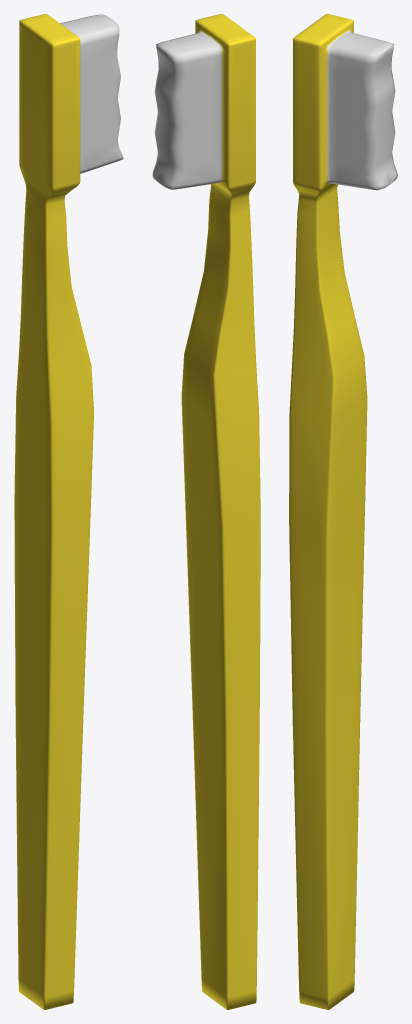
Rendered from toothbrush.fbx.
3 renders of one model, left to right at view 1: azimuth 30°, elevation 25°; view 2: azimuth 210°, elevation 25°; view 3: azimuth 330°, elevation 25°, orthographic.
Parts seen in each view (by area): view 1: Cube.005; view 2: Cube.005; view 3: Cube.005.
Boxes of the visible parts, left/top/right/bottom form: Cube.005: left=14, top=14, right=123, bottom=1009; Cube.005: left=152, top=14, right=260, bottom=1009; Cube.005: left=289, top=14, right=397, bottom=1009.
Size of the model in its own units: 28.2 by 313 by 22.29.
